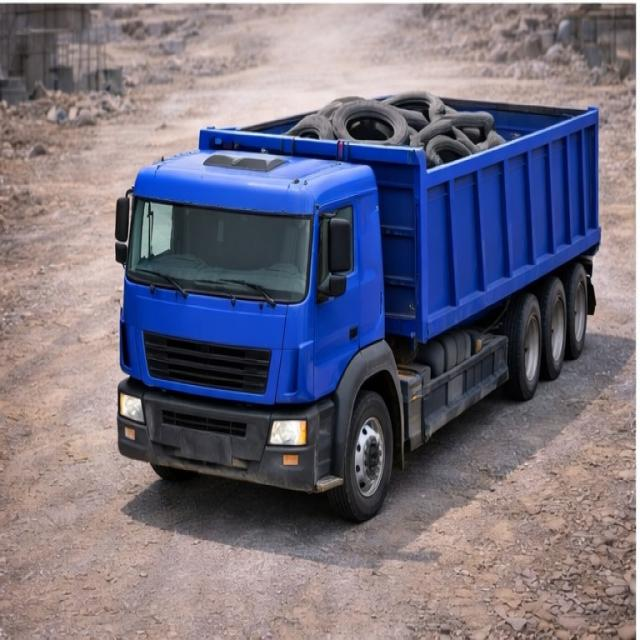trailer: (200, 88, 596, 155)
truck: (109, 60, 613, 499)
